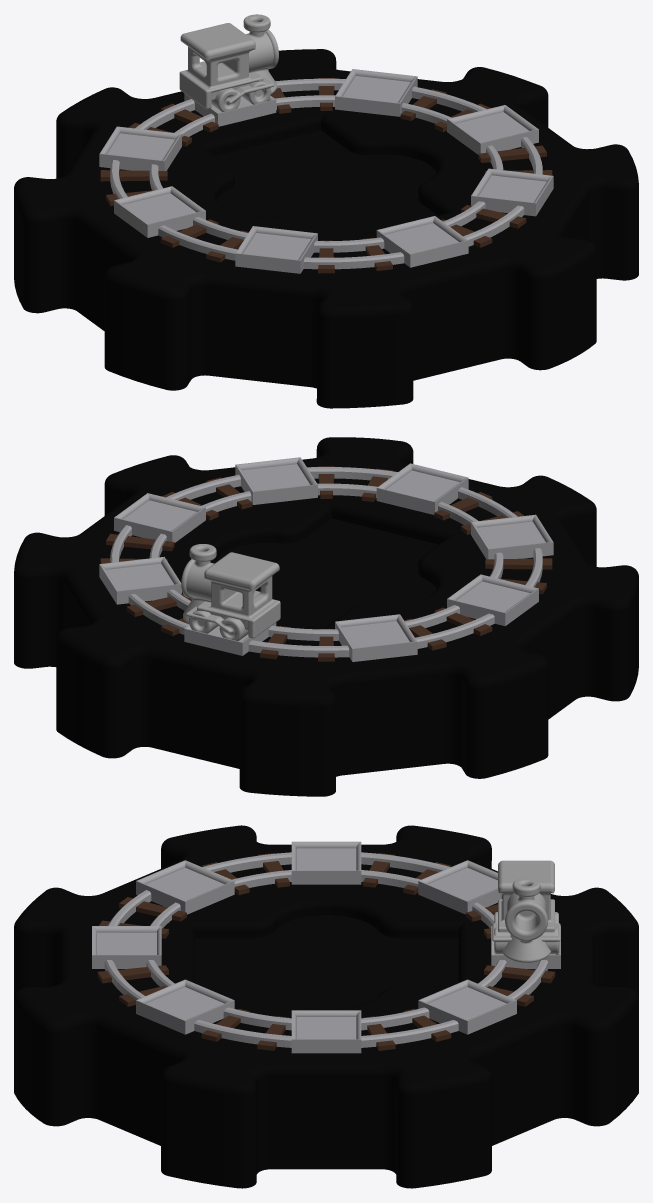
File: Train Case & Hub Animation.glb
The picture shows the model from 3 angles, top to bottom: view 1: azimuth 30°, elevation 25°; view 2: azimuth 150°, elevation 25°; view 3: azimuth 270°, elevation 25°; orthographic projection. The views are drawn at different scales.
Bounding box in the file's own units: 0.1252 × 0.0413 × 0.1252.
